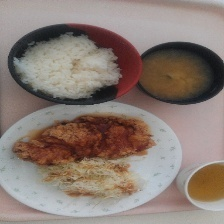rice: (13, 32, 122, 100)
